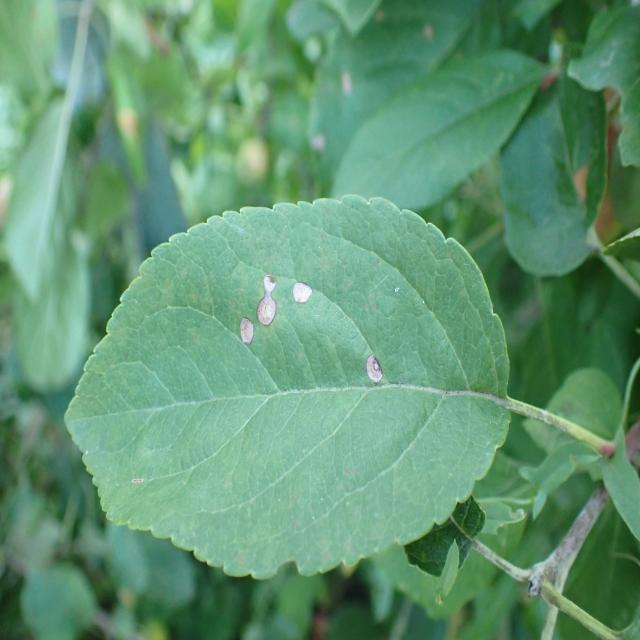frog-eye-leaf-spot: (63, 193, 512, 580)
